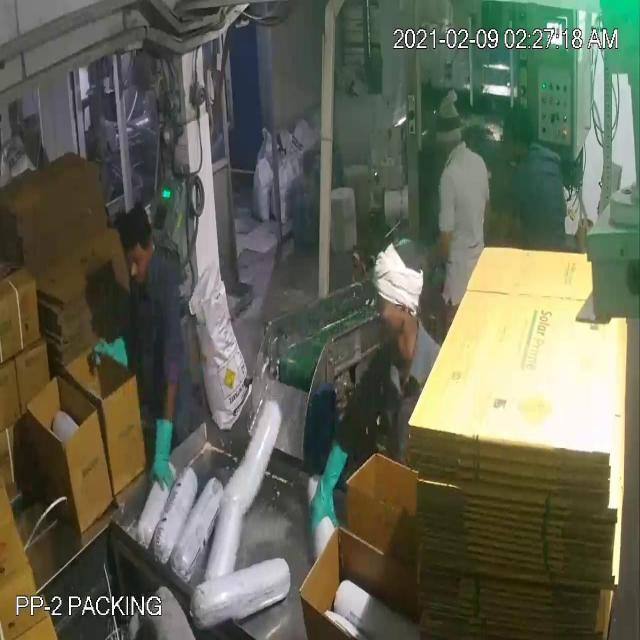Gloves: (36, 54, 431, 489)
